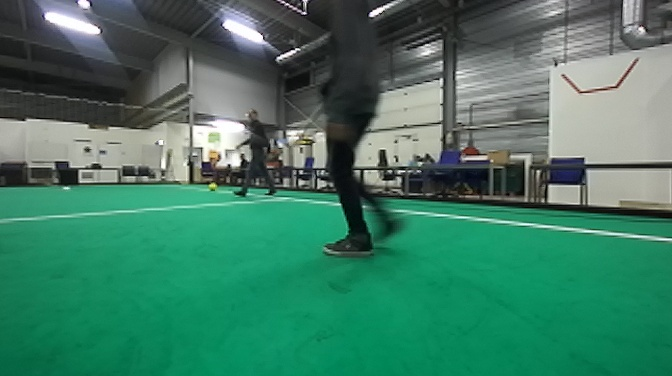ball: (207, 180, 218, 192)
human: (304, 1, 402, 257), (241, 107, 276, 201)
